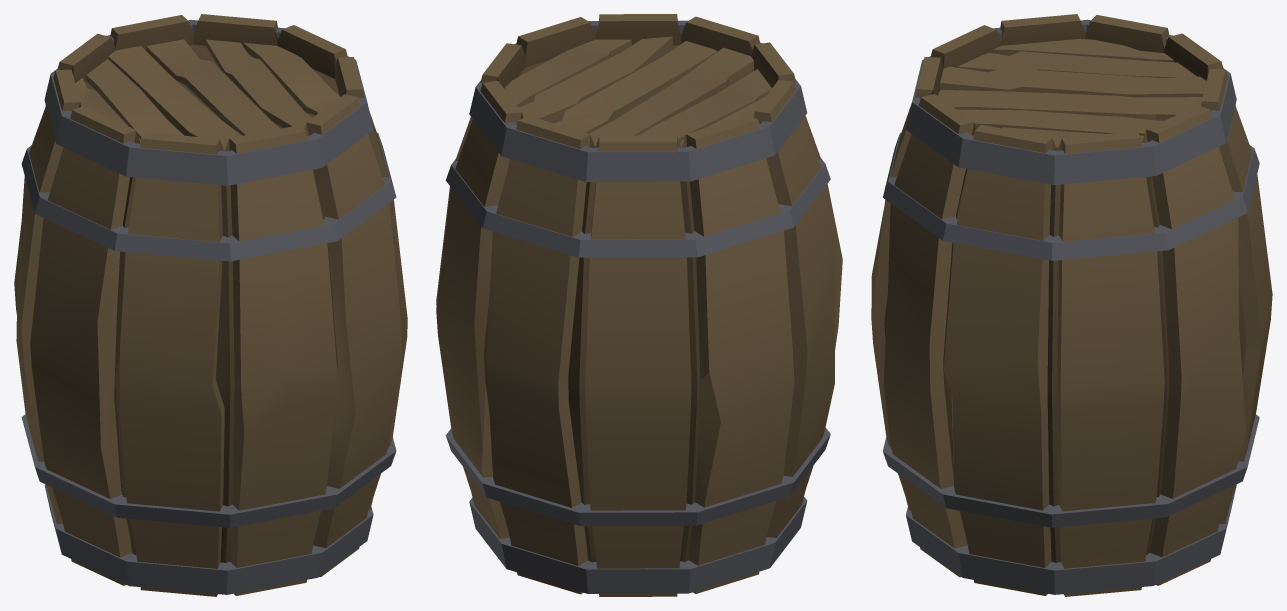
Rendered from Barrel.fbx.
3 views of the same model, side by side, from view 1: azimuth 30°, elevation 25°; view 2: azimuth 150°, elevation 25°; view 3: azimuth 270°, elevation 25° (orthographic).
Visible parts, largest first — view 1: Barrel; view 2: Barrel; view 3: Barrel.
Boxes of the visible parts, left/top/right/bottom form: Barrel: left=14, top=14, right=407, bottom=596; Barrel: left=436, top=14, right=842, bottom=596; Barrel: left=871, top=14, right=1272, bottom=596.
Bounding box in the file's own units: 0.8 × 1 × 0.8.
